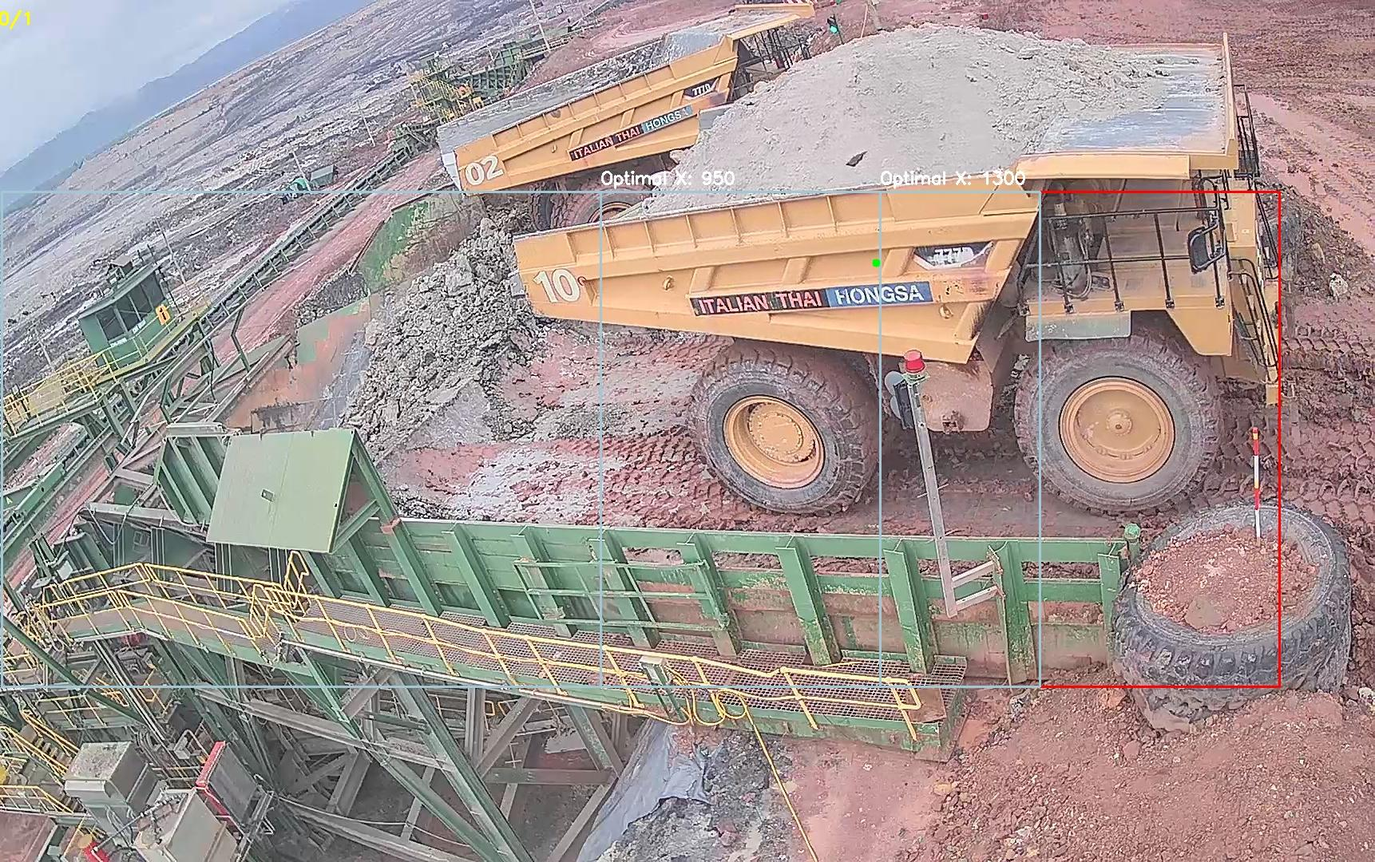company: (668, 271, 949, 322)
full_load: (671, 26, 1067, 206)
mining_truck: (497, 11, 1300, 523)
tail_number: (533, 262, 589, 309)
truck_size: (908, 241, 989, 269)
